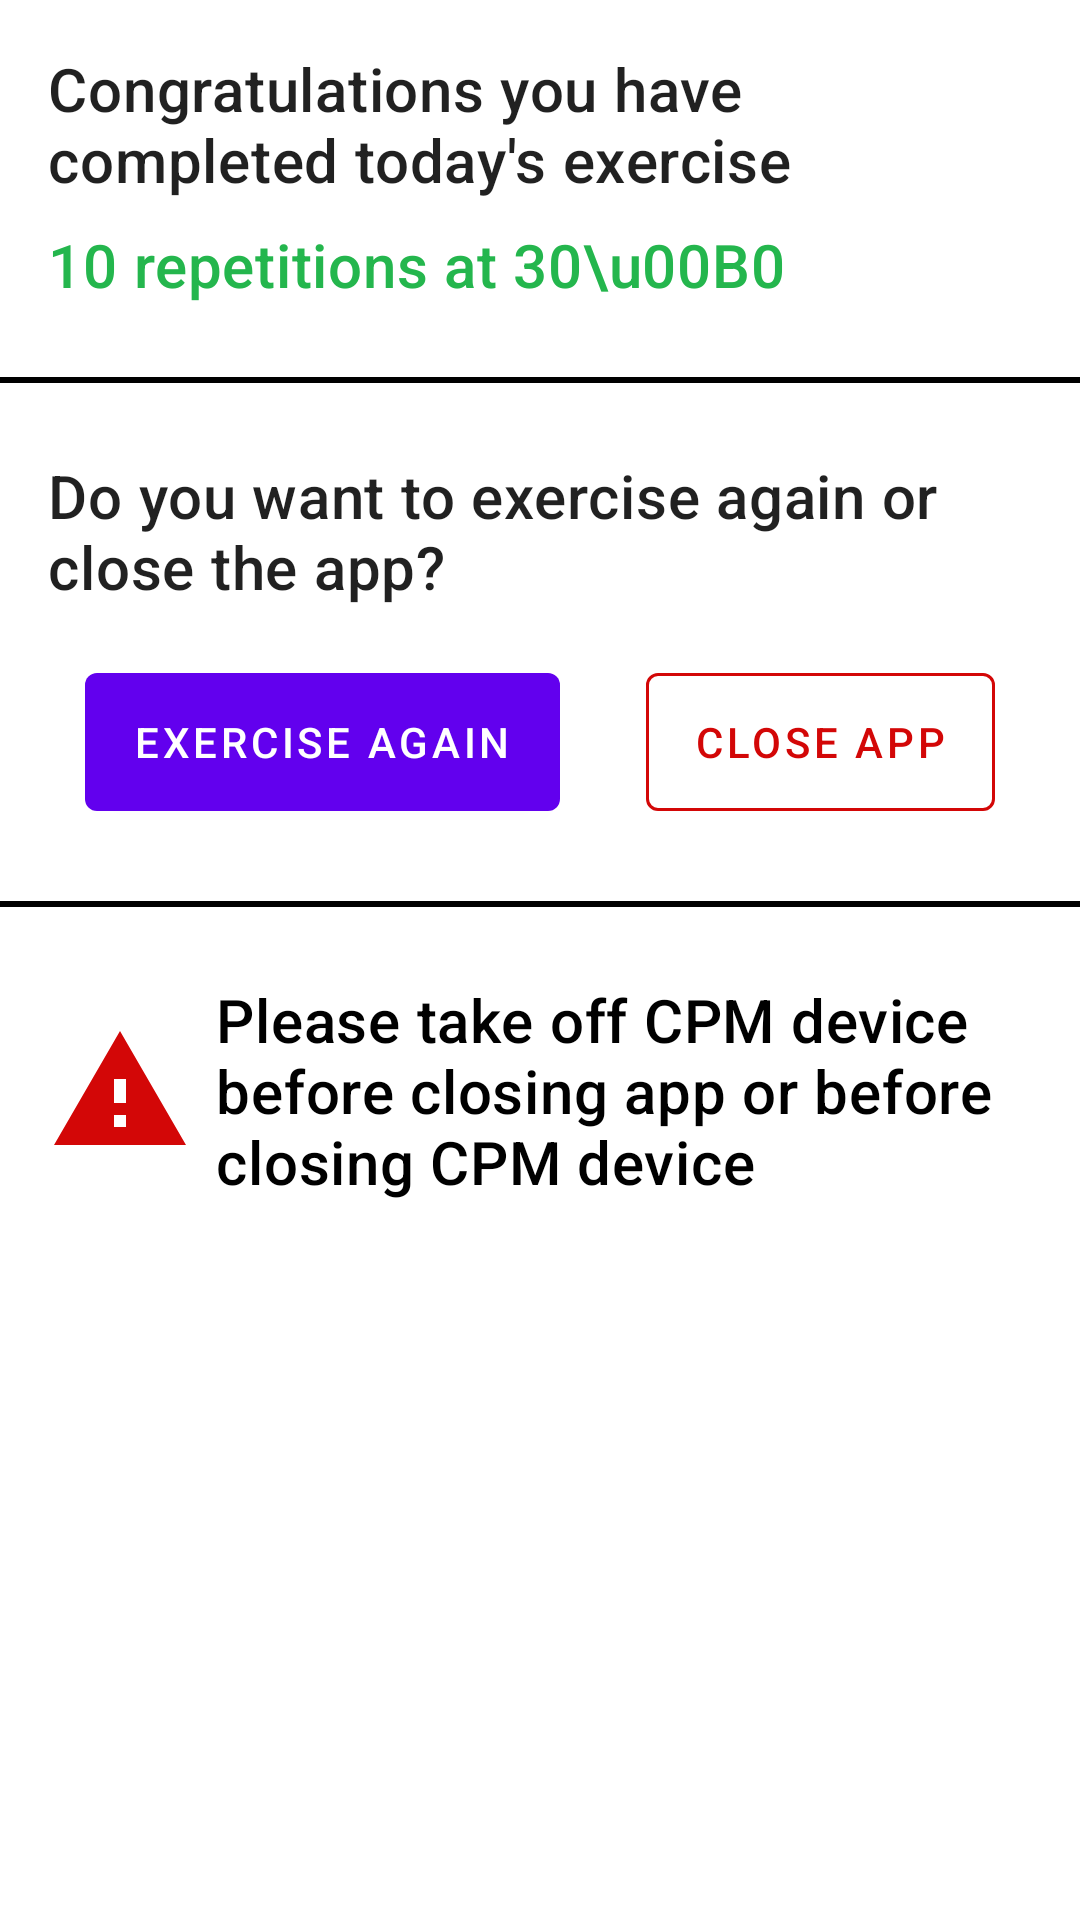

Icon click points for this 1080px x 1920px phone screenshot, format [x,y]:
warning: [120,1088]
